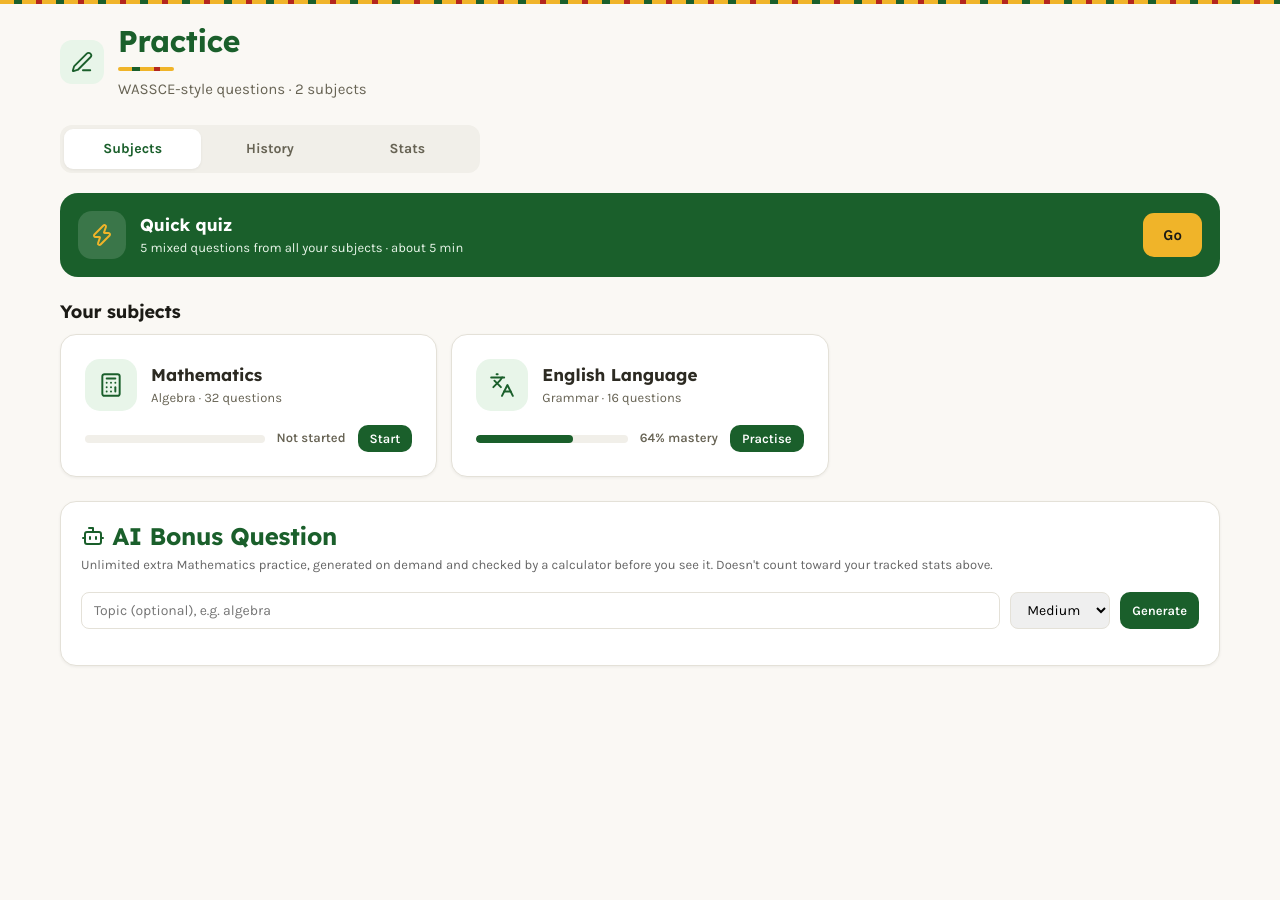
Practice › the quick quiz starts without a subject (mixed)
What coordinates should you click on to do the following:
click the button "Go"
I would click on:
 (1173, 234)
Its box is x1=1143 y1=212 x2=1202 y2=256.
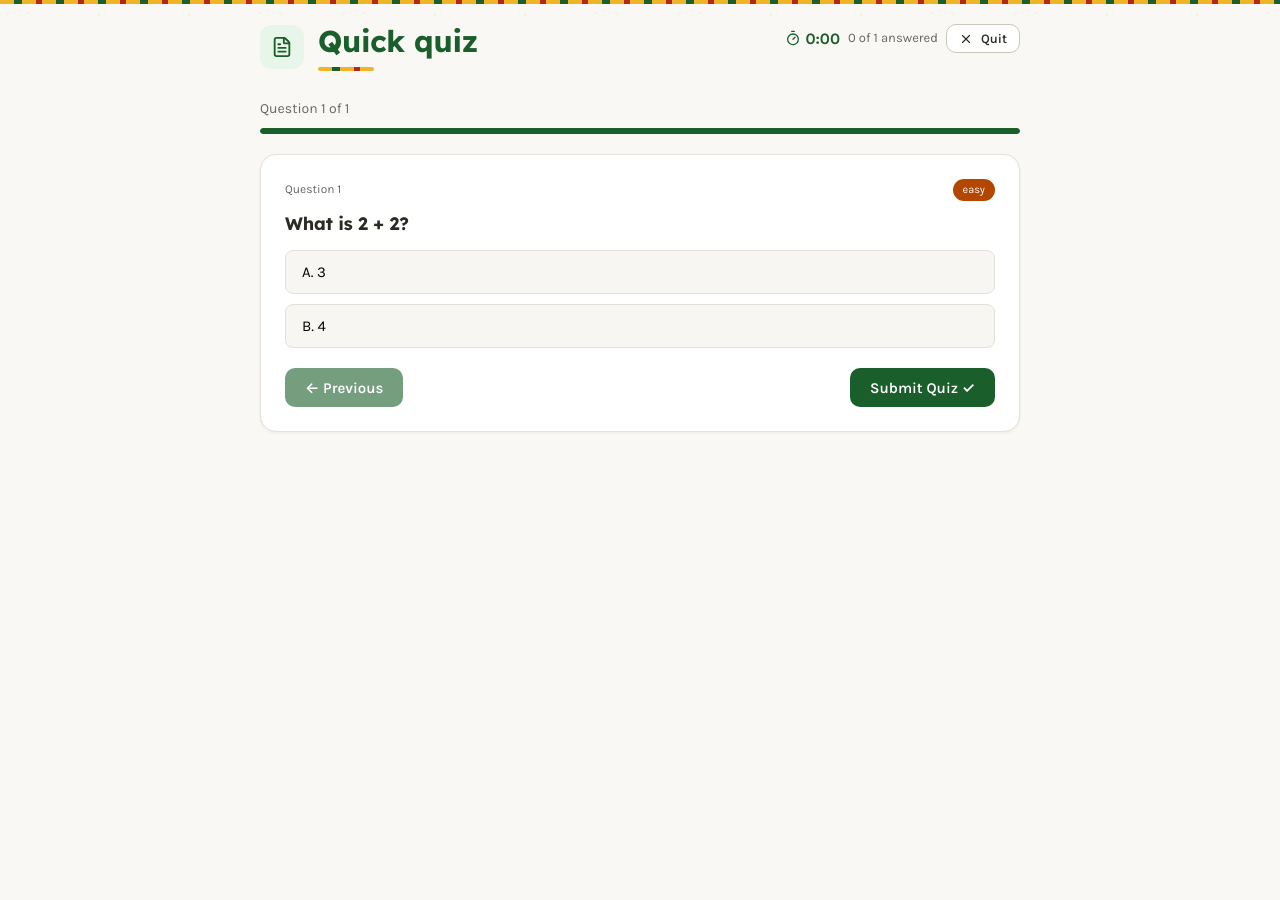
Expected: the heading "Quick quiz" is shown, x1=318 y1=24 x2=478 y2=70
